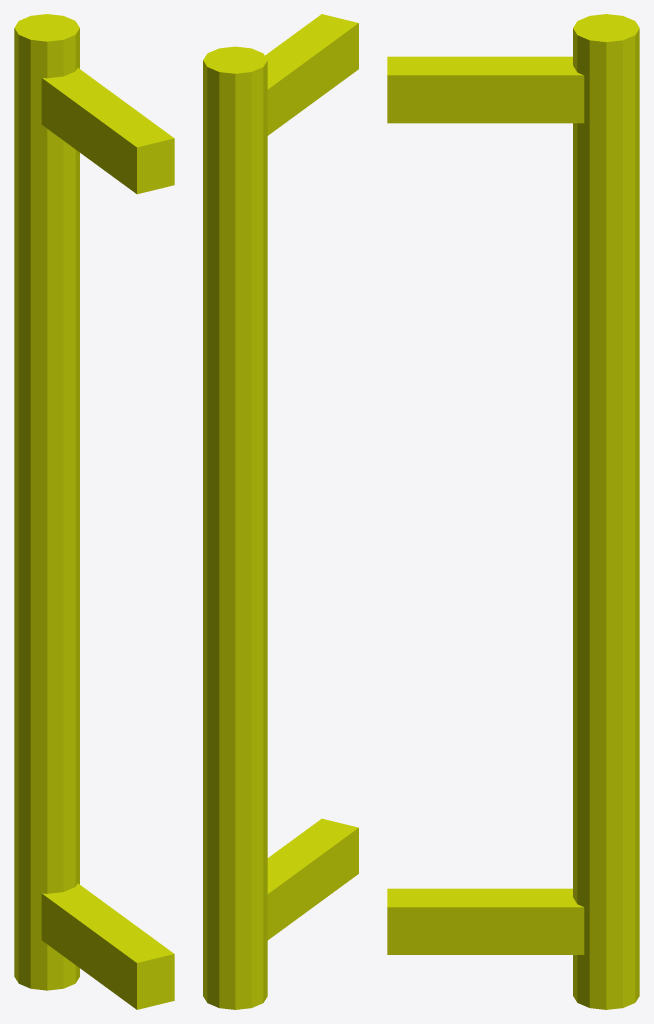
The model's file is Wardrobe_Handle.fbx.
3 views of the same model, side by side, from view 1: azimuth 30°, elevation 25°; view 2: azimuth 150°, elevation 25°; view 3: azimuth 270°, elevation 25° (orthographic). The views are drawn at different scales.
Parts seen in each view (by area): view 1: Wardrobe_Handle; view 2: Wardrobe_Handle; view 3: Wardrobe_Handle.
Boxes of the visible parts, bbox=[...] form: Wardrobe_Handle: bbox=[14, 14, 174, 1009]; Wardrobe_Handle: bbox=[203, 14, 358, 1009]; Wardrobe_Handle: bbox=[387, 14, 639, 1009].
Bounding box in the file's own units: 10.65 × 170 × 40.27.
